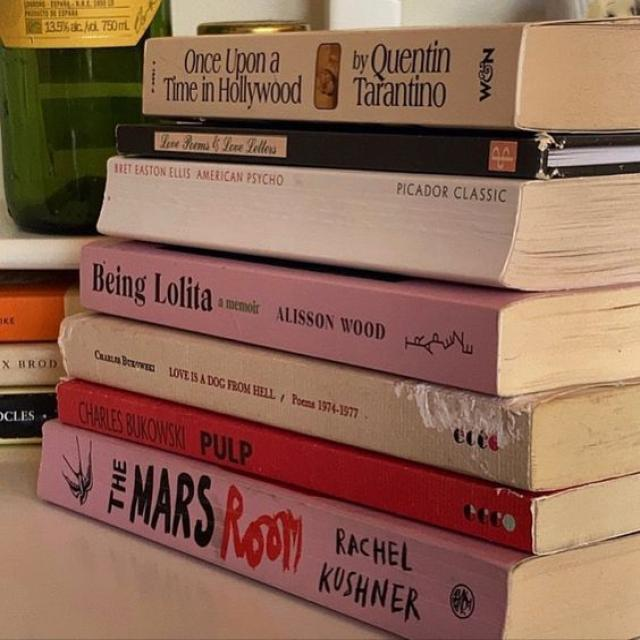book: (34, 424, 508, 639), (58, 383, 535, 555), (63, 319, 530, 491), (81, 243, 502, 397), (98, 160, 521, 279), (145, 28, 525, 126), (117, 122, 548, 178)
